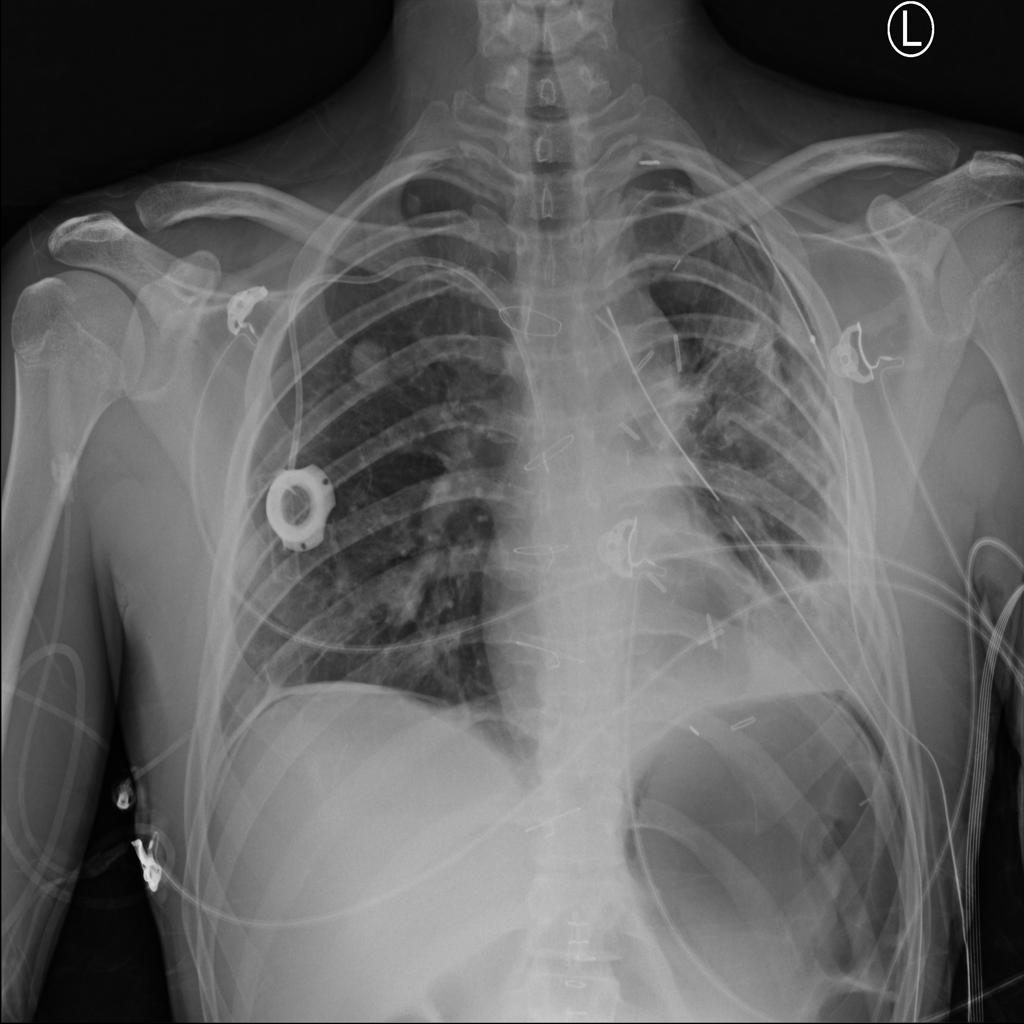nodule: (368, 553, 435, 633), (339, 328, 407, 401)
